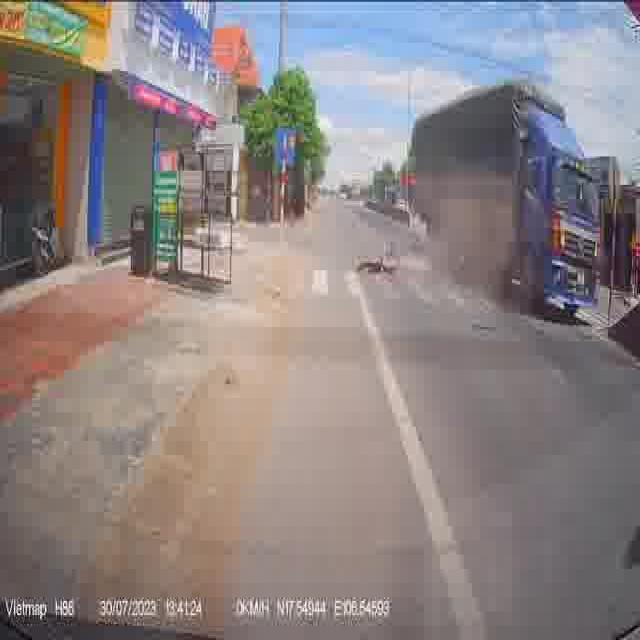multiple_accident: (349, 224, 415, 293)
